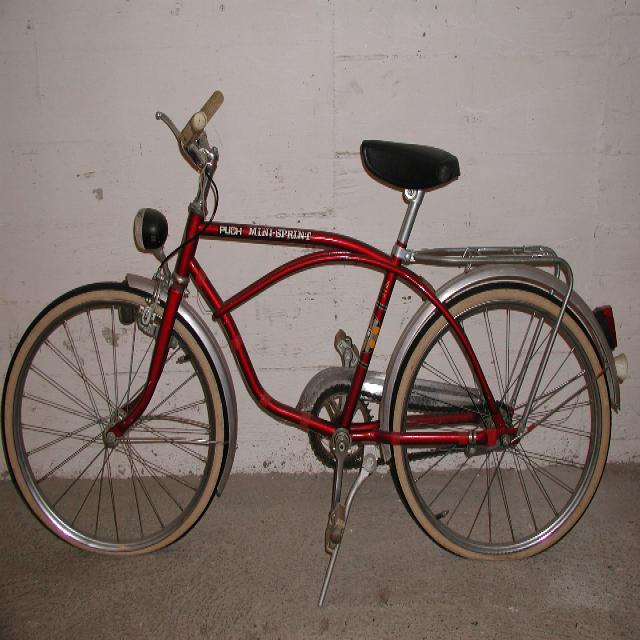bicycle: (1, 88, 627, 601)
